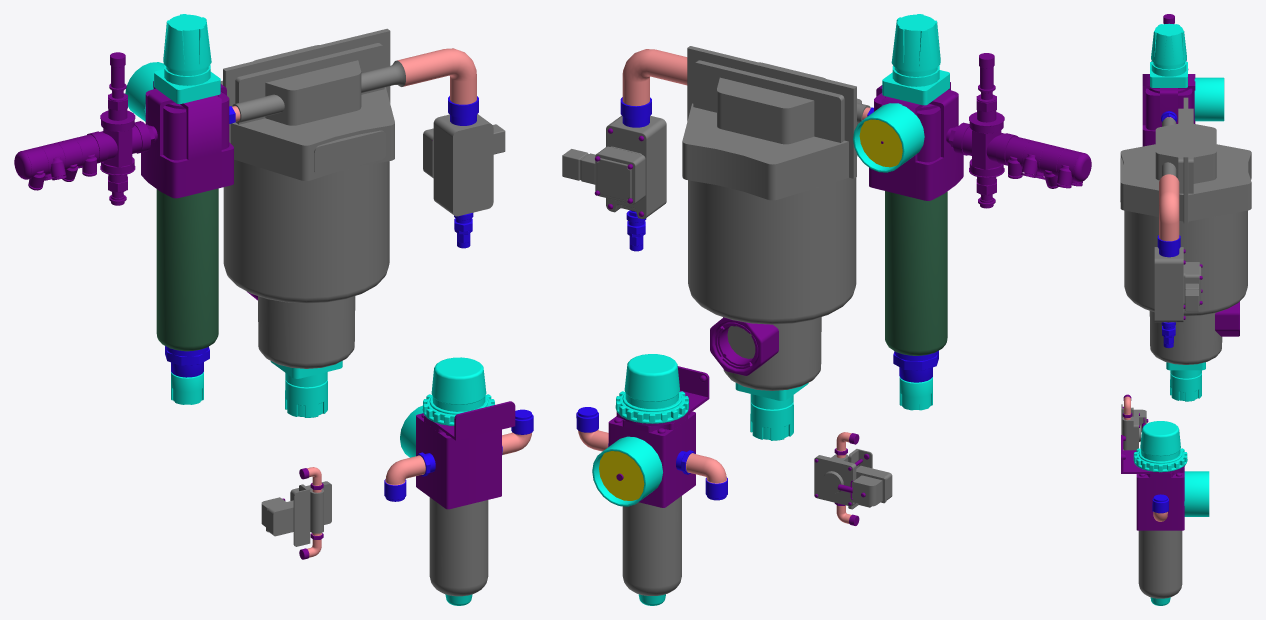
Rendered from SM_Gauge.fbx.
The picture shows the model from 3 angles, left to right: view 1: azimuth 30°, elevation 25°; view 2: azimuth 150°, elevation 25°; view 3: azimuth 270°, elevation 25°; orthographic projection. The views are drawn at different scales.
Visible parts, largest first — view 1: SM_Gauge; view 2: SM_Gauge; view 3: SM_Gauge.
Boxes of the visible parts, left/top/right/bottom form: SM_Gauge: left=14, top=14, right=533, bottom=605; SM_Gauge: left=562, top=14, right=1091, bottom=605; SM_Gauge: left=1120, top=14, right=1251, bottom=605.
Size of the model in its own units: 50.84 by 61.33 by 15.28.
